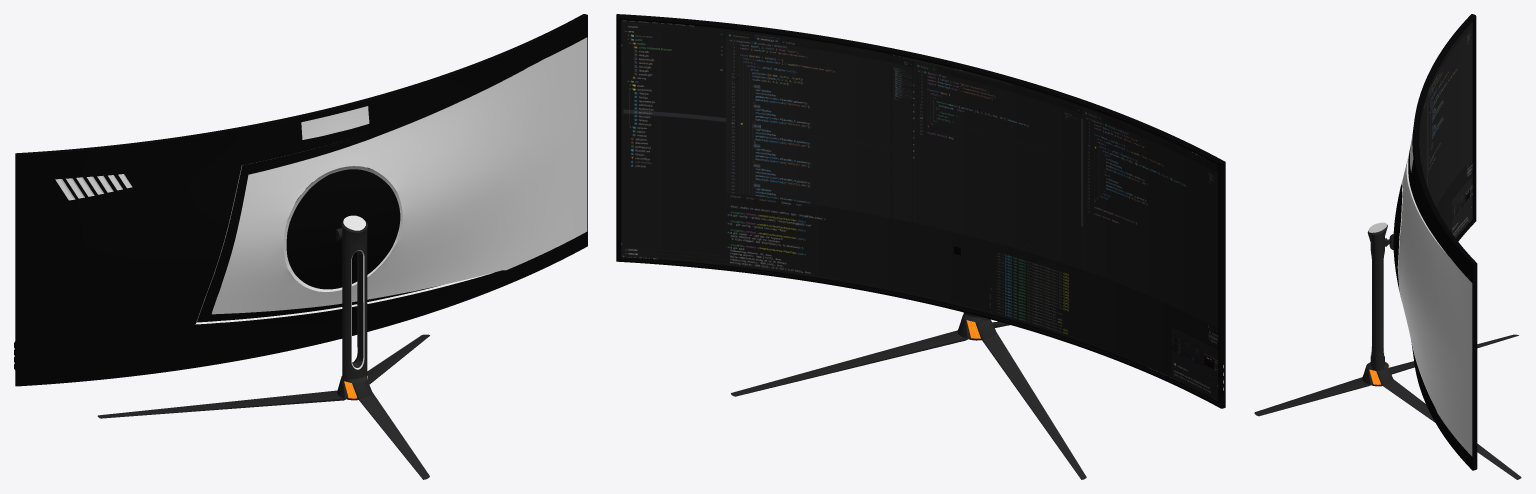
Rendered from monitor.glb.
3 renders of one model, left to right at view 1: azimuth 30°, elevation 25°; view 2: azimuth 150°, elevation 25°; view 3: azimuth 270°, elevation 25°, orthographic. The views are drawn at different scales.
Visible parts, largest first — view 1: Plane, Stand; view 2: Plane, Stand; view 3: Plane, Stand.
Part boxes in pixels (left/top/right/bottom): Plane: left=14, top=14, right=587, bottom=386; Stand: left=97, top=215, right=429, bottom=479; Plane: left=616, top=14, right=1225, bottom=408; Stand: left=731, top=312, right=1086, bottom=479; Plane: left=1393, top=14, right=1477, bottom=470; Stand: left=1254, top=222, right=1521, bottom=479.
Bounding box in the file's own units: 1.05 × 0.536 × 0.4733.
10 materials, 1 textured.
